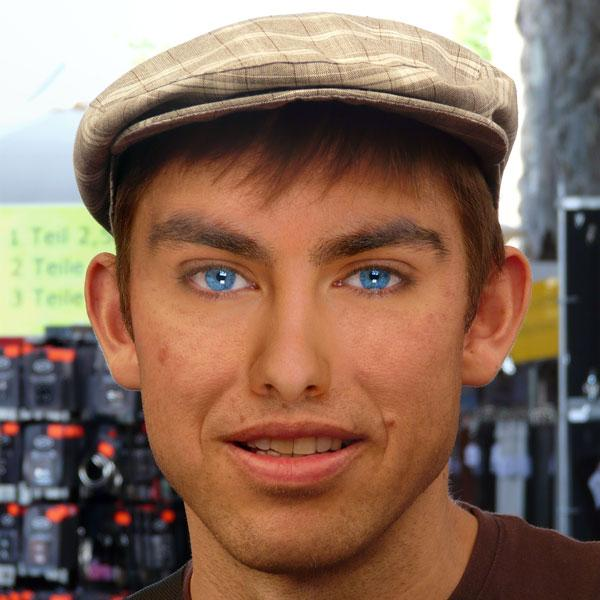Eyes: (167, 246, 271, 311), (323, 251, 421, 314)
